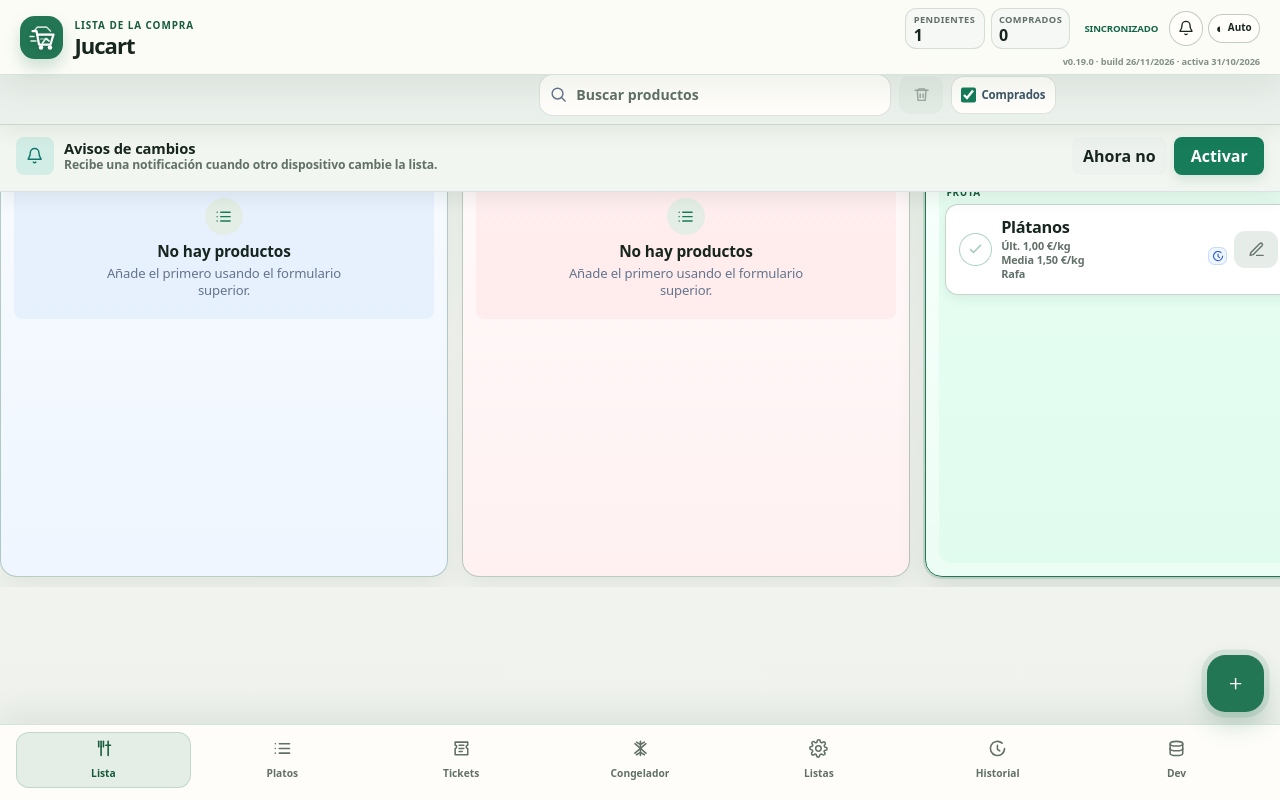
Test: App › paginates price observations in the price detail sheet
Check: the text "Plátanos" is shown, box left=1001, top=217, right=1069, bottom=239
Click the button named "Ver precios de Plátanos". click: (1217, 257)
box: left=1208, top=247, right=1227, bottom=266
(page scrolled)
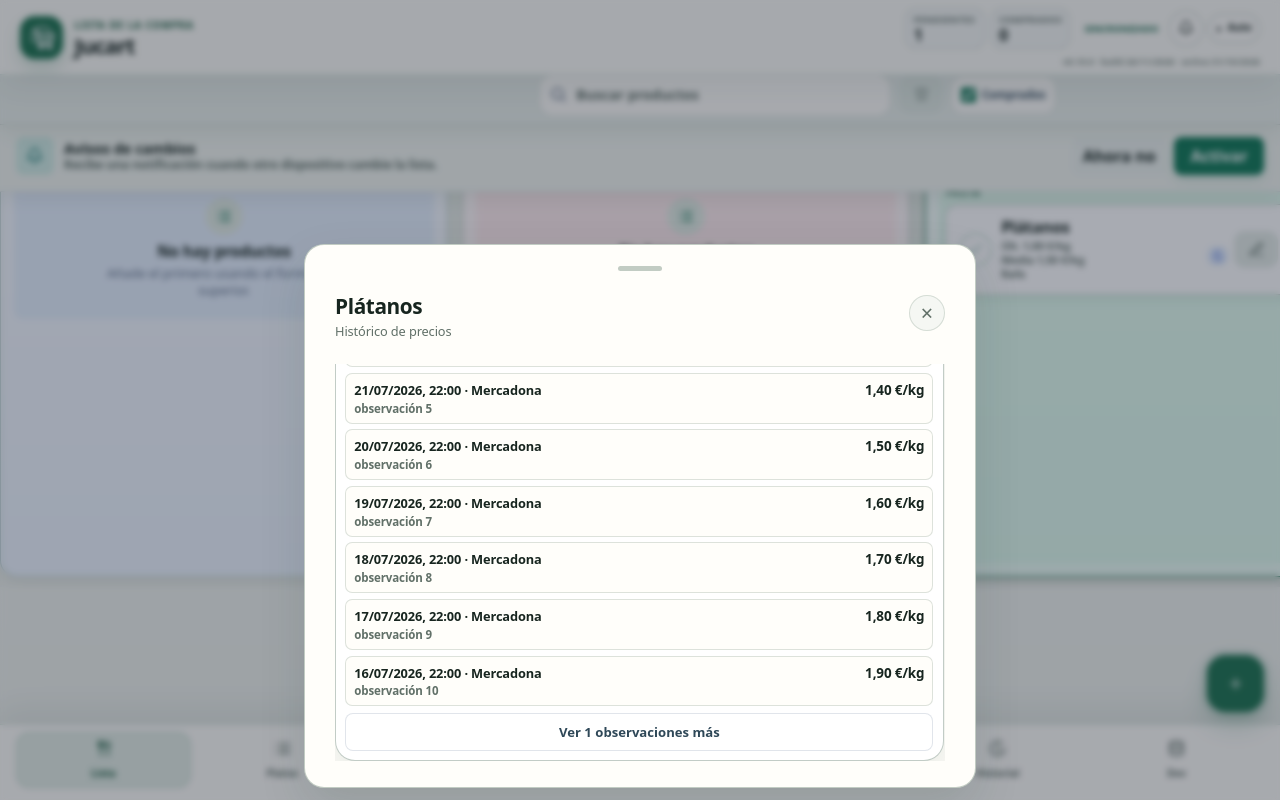
Check: the text "observación 11" is not shown
Check: the text "observación 10" is shown, box left=354, top=683, right=438, bottom=698
Click the button "Ver 1 observaciones más". click: (639, 732)
box: left=345, top=713, right=933, bottom=751
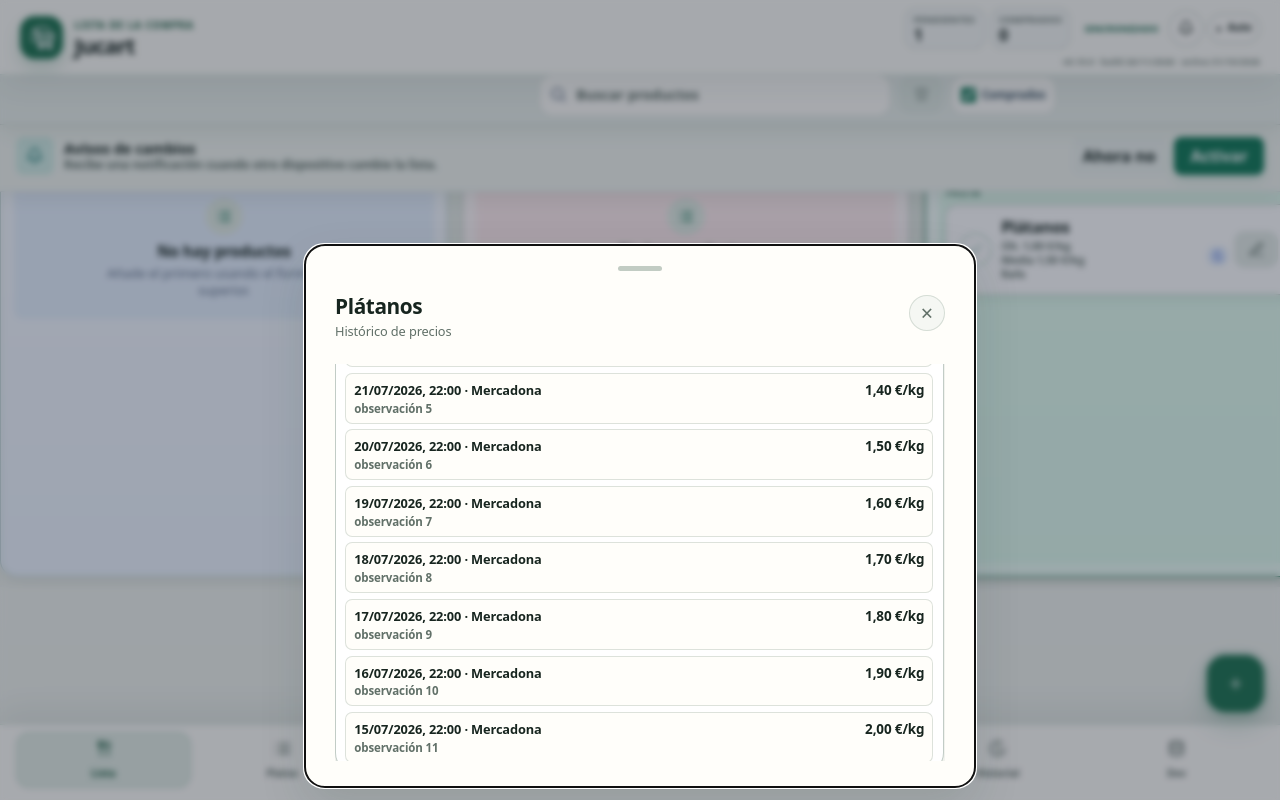
Check: the text "observación 11" is shown, box left=354, top=740, right=438, bottom=755
Check: the button "Ver 1 observaciones más" is gone
